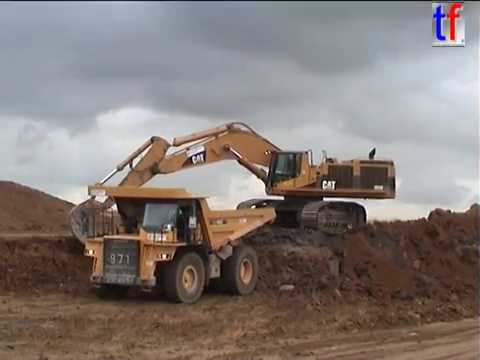excavator: (66, 119, 399, 249)
truck: (79, 183, 278, 305)
